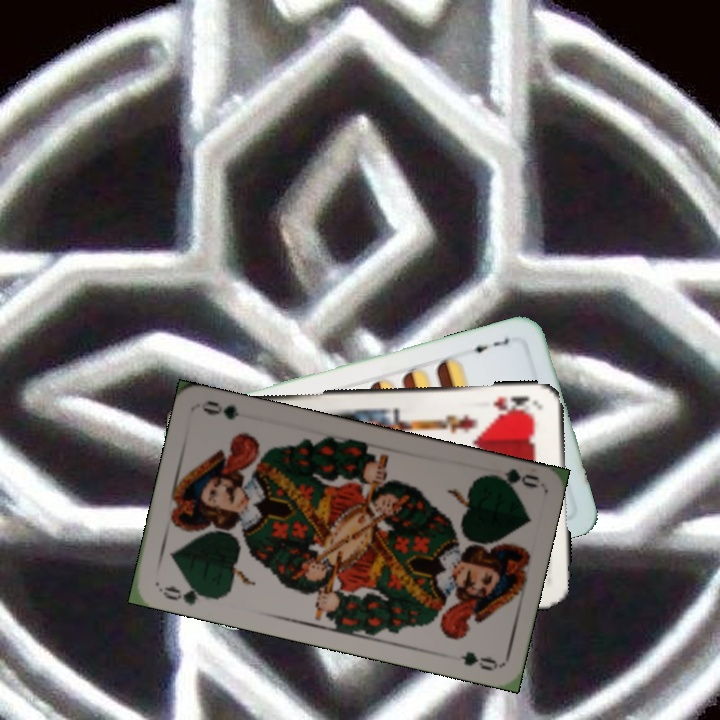E7: (464, 333, 513, 356)
GO: (480, 464, 541, 493), (156, 580, 215, 609)
HK: (489, 391, 538, 416)
